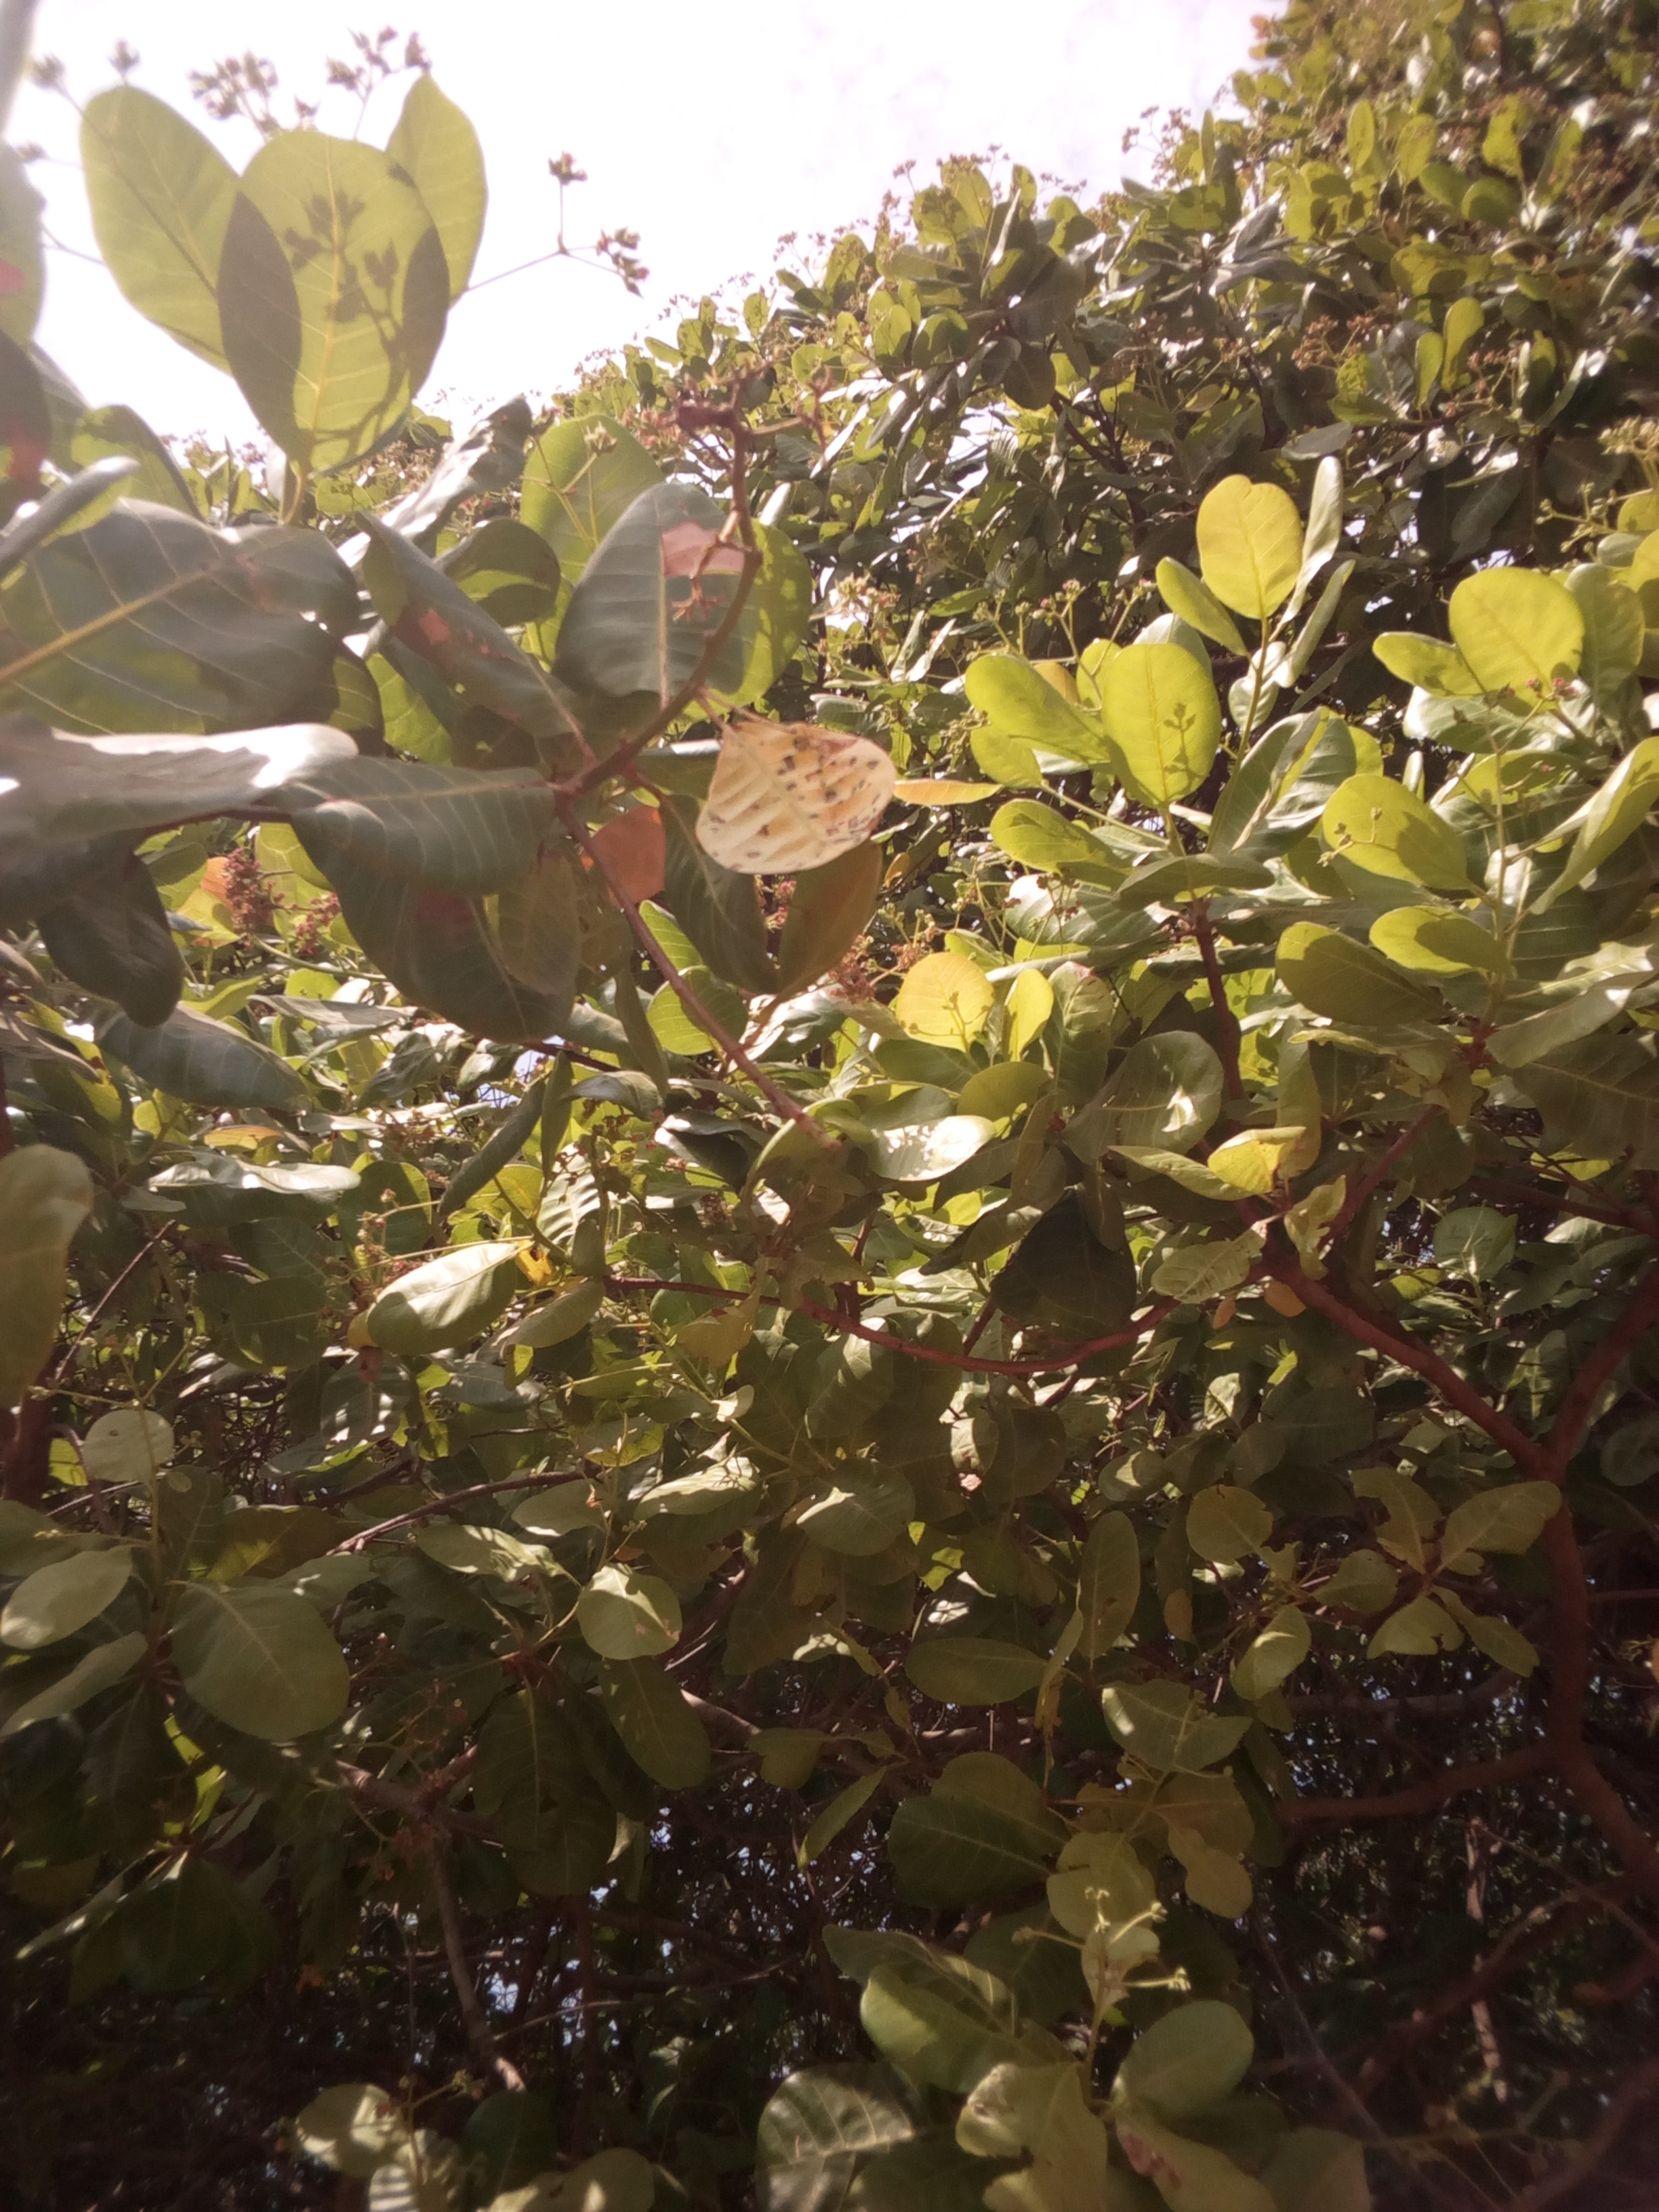Bactériose: (701, 693, 901, 862)
